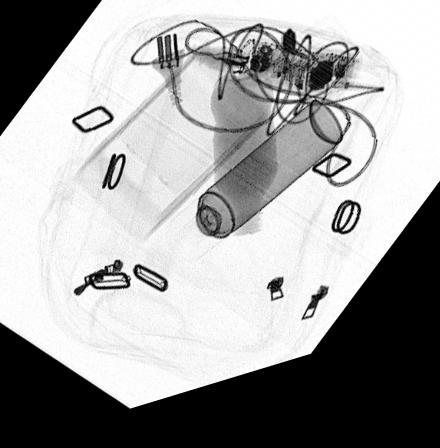Sprayer: (165, 117, 342, 275)
